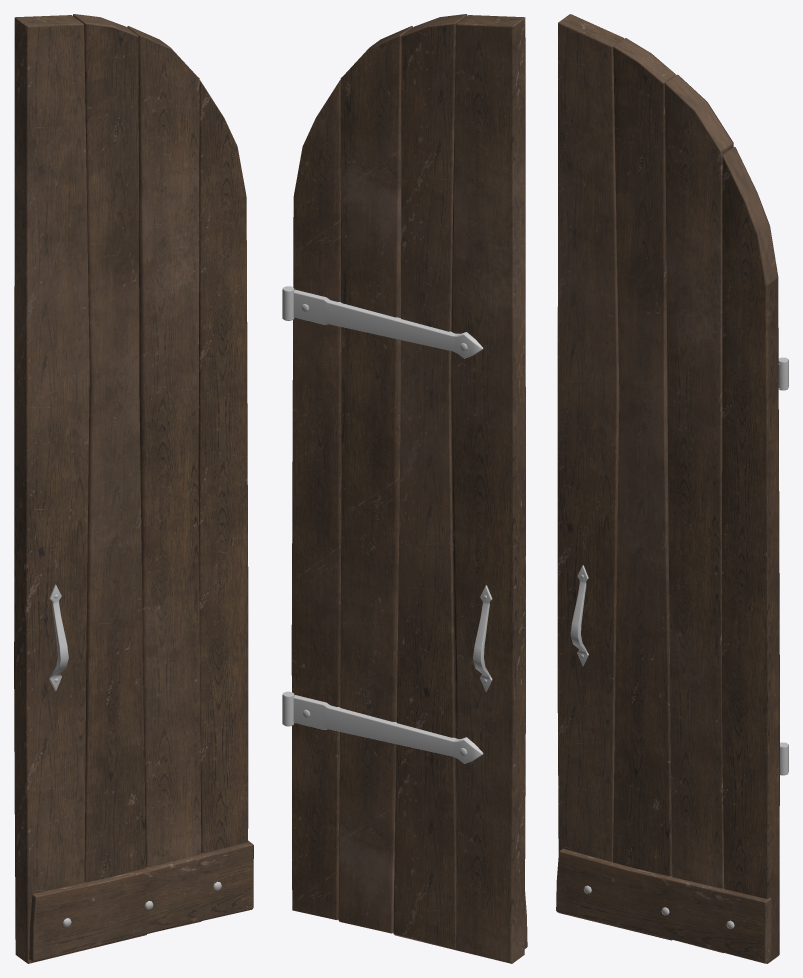
File: SM_Wooden_Door_02_R.fbx
3 views of the same model, side by side, from view 1: azimuth 30°, elevation 25°; view 2: azimuth 150°, elevation 25°; view 3: azimuth 330°, elevation 25° (orthographic). The views are drawn at different scales.
Visible parts, largest first — view 1: SM_Wooden_Door_02_R_LOD0; view 2: SM_Wooden_Door_02_R_LOD0; view 3: SM_Wooden_Door_02_R_LOD0.
Part boxes in pixels (x1,y1,x2,y2): SM_Wooden_Door_02_R_LOD0: (14,14,253,963); SM_Wooden_Door_02_R_LOD0: (282,14,527,963); SM_Wooden_Door_02_R_LOD0: (556,14,788,963).
Size of what is drawn, in the model's own units: 103 by 407 by 26.33.
